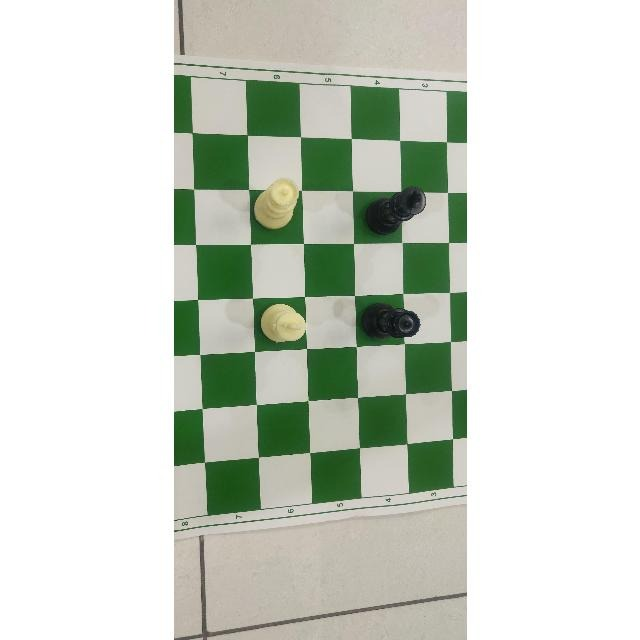black-king: (366, 184, 426, 240)
black-queen: (353, 294, 423, 347)
white-king: (254, 299, 306, 351)
white-queen: (252, 178, 296, 230)
